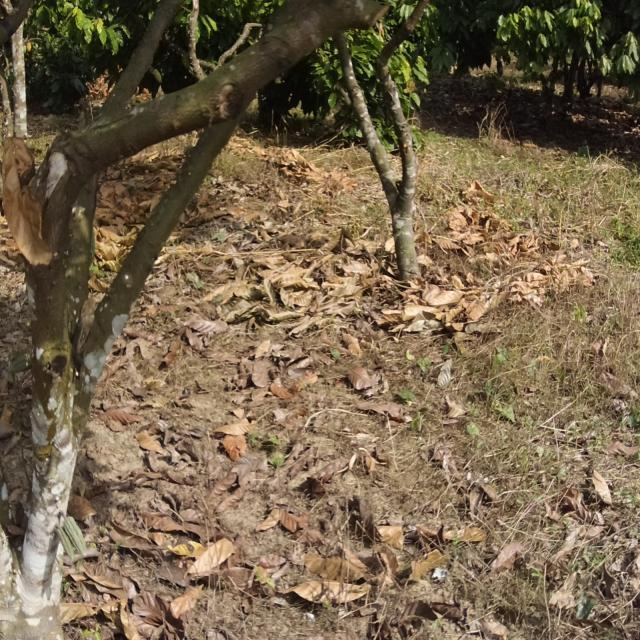Immature: (53, 506, 102, 592)
